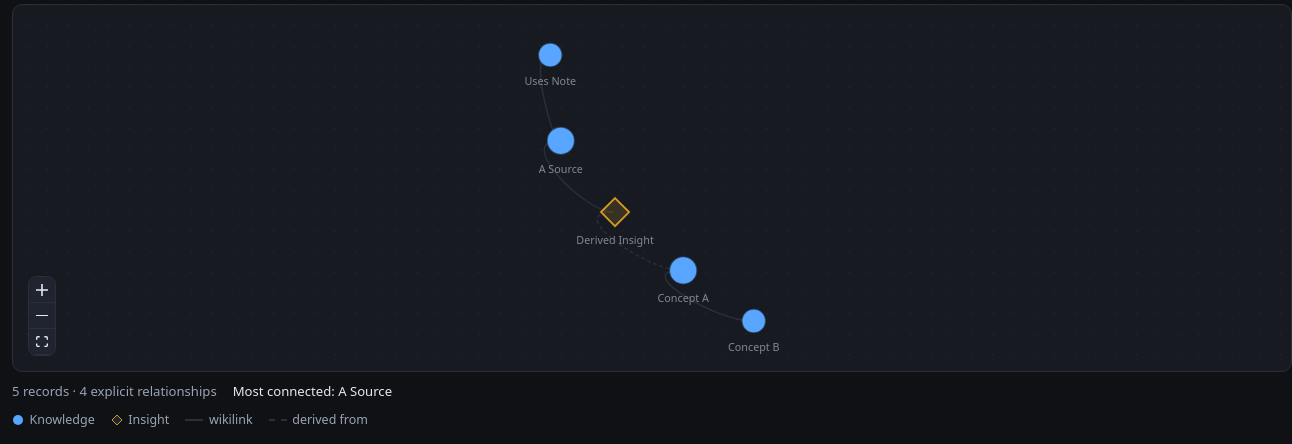
it: BrainMap › clears focus via the chip button
The width and height of the screenshot is (1292, 444).
Expected: the text "Concept A" is shown, [658,290,709,307]
Click the element showing "Concept A" at (683,270), box [667,254,699,286]
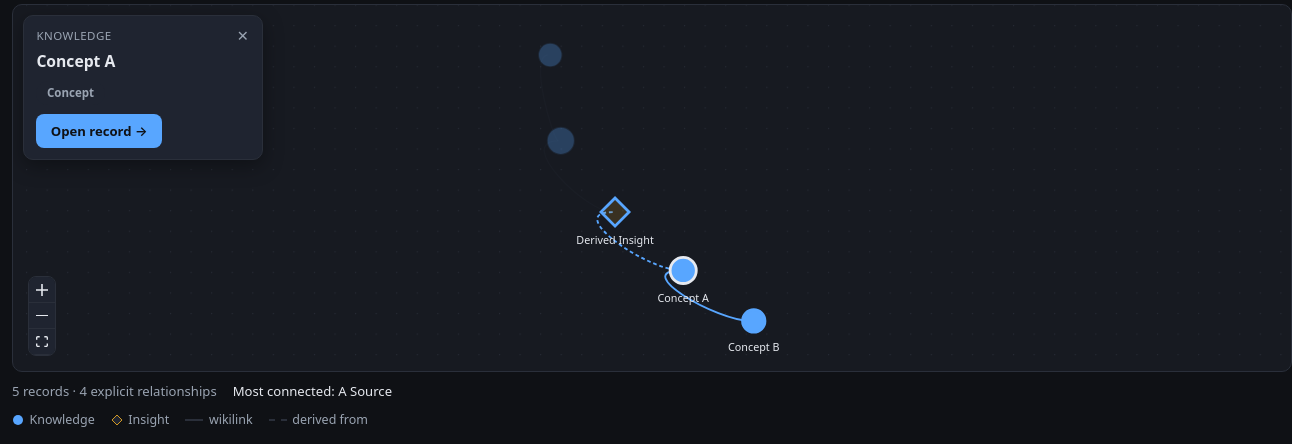
Click the button named "Clear selection" at (243,36), box [237,28,249,43]
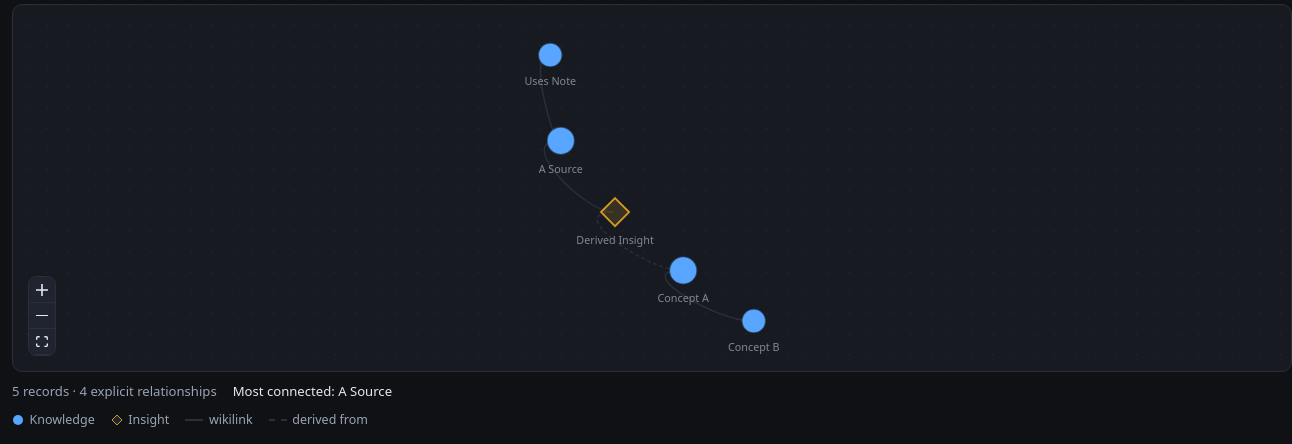
Now the link "Open record" is gone
